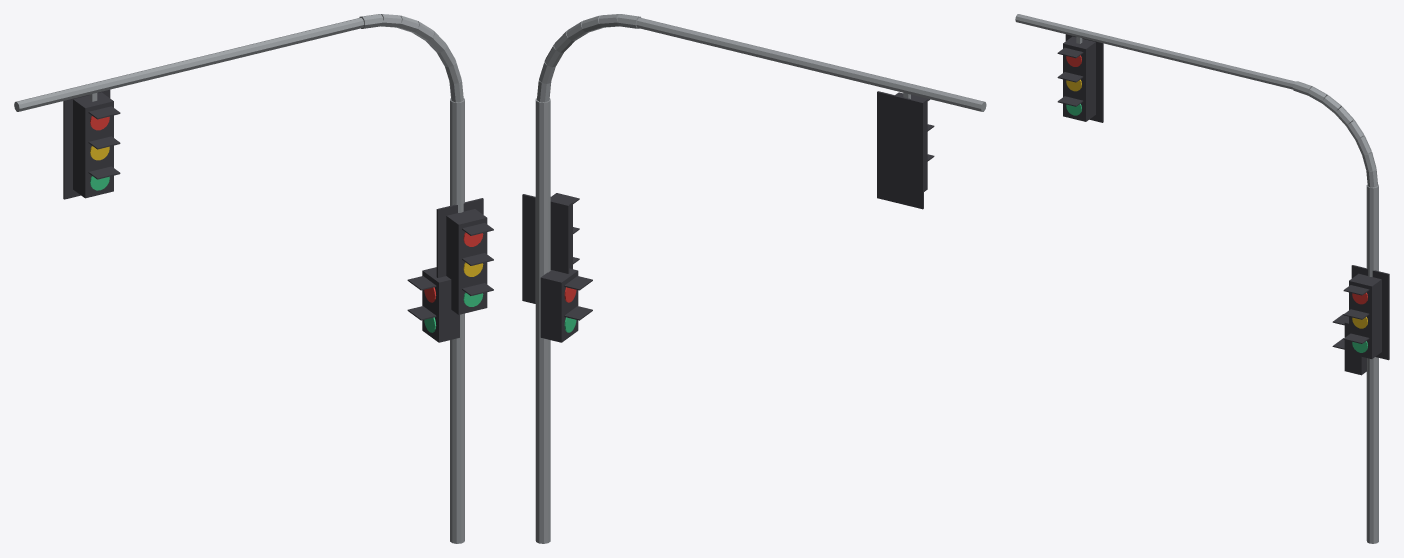
File: semaforo.glb
3 renders of one model, left to right at view 1: azimuth 30°, elevation 25°; view 2: azimuth 150°, elevation 25°; view 3: azimuth 330°, elevation 25°, orthographic. The views are drawn at different scales.
Visible parts, largest first — view 1: semaforo; view 2: semaforo; view 3: semaforo.
Part boxes in pixels (<box>): semaforo: <box>14,14,493,543</box>; semaforo: <box>522,14,986,543</box>; semaforo: <box>1015,14,1389,543</box>.
Size of the model in its own units: 4.84 by 5.46 by 0.6.
